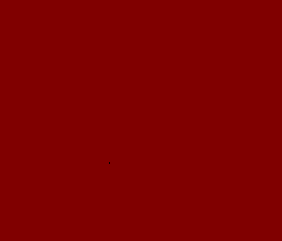Sky: (1, 1, 281, 240)
